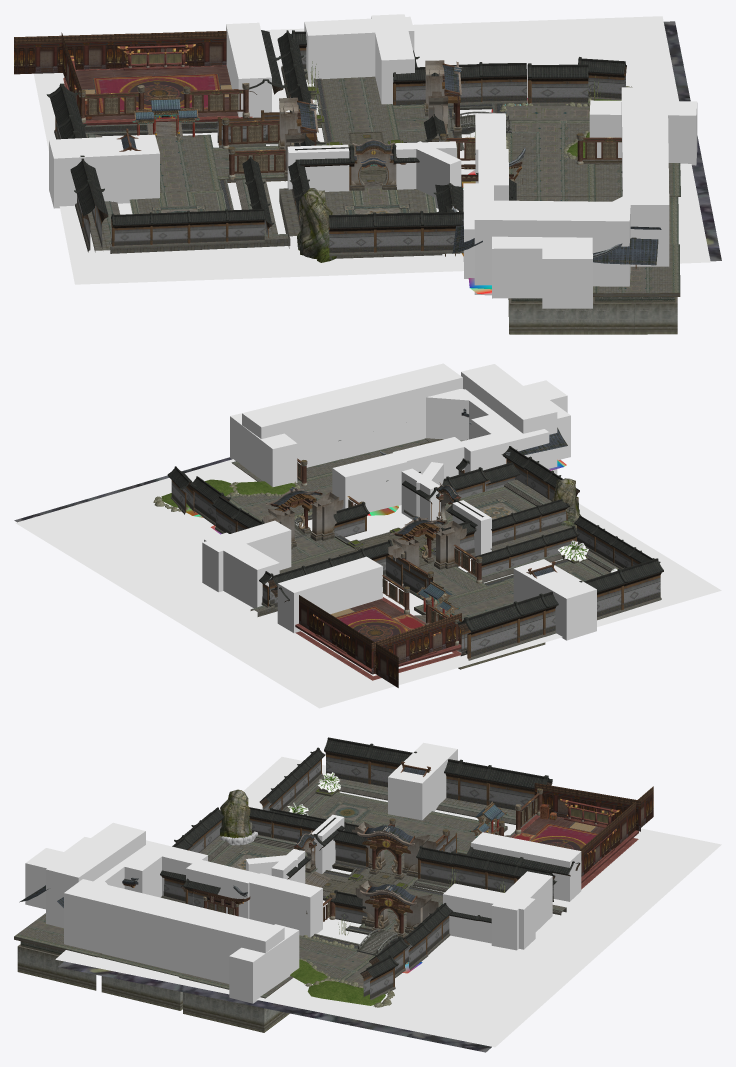
File: yewai 03.FBX
The picture shows the model from 3 angles, top to bottom: view 1: azimuth 30°, elevation 25°; view 2: azimuth 150°, elevation 25°; view 3: azimuth 270°, elevation 25°; orthographic projection. The views are drawn at different scales.
Parts seen in each view (by area): view 1: Cube (×15), water_shuimian01 (×2), 1_Receive (×2), c5_pingjieqiang_obj_1 (×11), c5_pingjieqiang_obj_0 (×12), build_menchuang (×3), part04, build_yuanluo_weiqiang_06, build_yuanluo_weiqiang_03 (×3), build_yewai_yuanluopingtai_new (×2), build_yewai_yuanluopingtai_02, build_yewai_yuanluopingtai_01 1 (+12 smaller); view 2: Cube (×16), water_shuimian01 (×2), build_menchuang (×3), c5_pingjieqiang_obj_1 (×5), build_yuanluo_weiqiang_03 (×2), 1_Receive (×2), part04, build_yewai_yuanluopingtai_01 1, c5_pingjieqiang_obj_0 (×2), build_yuanluo_weiqiang_06, build_yewai_yuanluopingtai_new, 14-Default (+7 smaller); view 3: Cube (×15), water_shuimian01 (×2), 1_Receive (×2), c5_pingjieqiang_obj_1 (×6), build_menchuang (×3), build_yuanluo_weiqiang_03 (×2), c5_pingjieqiang_obj_0 (×5), build_yewai_yuanluopingtai_new (×2), part04, build_yewai_yuanluopingtai_01 1, c5_pingjieqiang_Caster_Receive, build_yewai_yuanluopingtai_02 (+13 smaller).
Boxes of the visible parts, x1=… form: Cube (×15): x1=49, y1=14, x2=697, y2=308; water_shuimian01 (×2): x1=34, y1=16, x2=721, y2=284; 1_Receive (×2): x1=212, y1=76, x2=680, y2=334; c5_pingjieqiang_obj_1 (×11): x1=111, y1=75, x2=588, y2=256; c5_pingjieqiang_obj_0 (×12): x1=46, y1=63, x2=588, y2=231; build_menchuang (×3): x1=14, y1=31, x2=226, y2=118; part04: x1=63, y1=65, x2=252, y2=125; build_yuanluo_weiqiang_06: x1=78, y1=83, x2=294, y2=180; build_yuanluo_weiqiang_03 (×3): x1=278, y1=60, x2=461, y2=190; build_yewai_yuanluopingtai_new (×2): x1=129, y1=186, x2=436, y2=214; build_yewai_yuanluopingtai_02: x1=505, y1=105, x2=589, y2=153; build_yewai_yuanluopingtai_01 1: x1=157, y1=134, x2=221, y2=192; Cube (×16): x1=202, y1=363, x2=596, y2=640; water_shuimian01 (×2): x1=14, y1=457, x2=721, y2=708; build_menchuang (×3): x1=299, y1=595, x2=461, y2=687; c5_pingjieqiang_obj_1 (×5): x1=402, y1=565, x2=661, y2=660; build_yuanluo_weiqiang_03 (×2): x1=263, y1=487, x2=466, y2=582; 1_Receive (×2): x1=231, y1=438, x2=487, y2=600; part04: x1=295, y1=597, x2=461, y2=680; build_yewai_yuanluopingtai_01 1: x1=414, y1=580, x2=545, y2=669; c5_pingjieqiang_obj_0 (×2): x1=457, y1=558, x2=663, y2=634; build_yuanluo_weiqiang_06: x1=382, y1=544, x2=482, y2=645; build_yewai_yuanluopingtai_new: x1=438, y1=486, x2=536, y2=527; 14-Default: x1=250, y1=479, x2=569, y2=616; Cube (×15): x1=25, y1=742, x2=581, y2=1003; water_shuimian01 (×2): x1=55, y1=757, x2=721, y2=1052; 1_Receive (×2): x1=14, y1=849, x2=442, y2=1032; c5_pingjieqiang_obj_1 (×6): x1=326, y1=754, x2=534, y2=889; build_menchuang (×3): x1=534, y1=783, x2=653, y2=876; build_yuanluo_weiqiang_03 (×2): x1=352, y1=821, x2=438, y2=938; c5_pingjieqiang_obj_0 (×5): x1=324, y1=737, x2=552, y2=866; build_yewai_yuanluopingtai_new (×2): x1=210, y1=792, x2=397, y2=878; part04: x1=511, y1=814, x2=638, y2=889; build_yewai_yuanluopingtai_01 1: x1=387, y1=811, x2=507, y2=854; c5_pingjieqiang_Caster_Receive: x1=161, y1=878, x2=428, y2=1000; build_yewai_yuanluopingtai_02: x1=299, y1=941, x2=374, y2=987.
Size of what is drawn, in the model's own units: 348 by 50.53 by 355.
